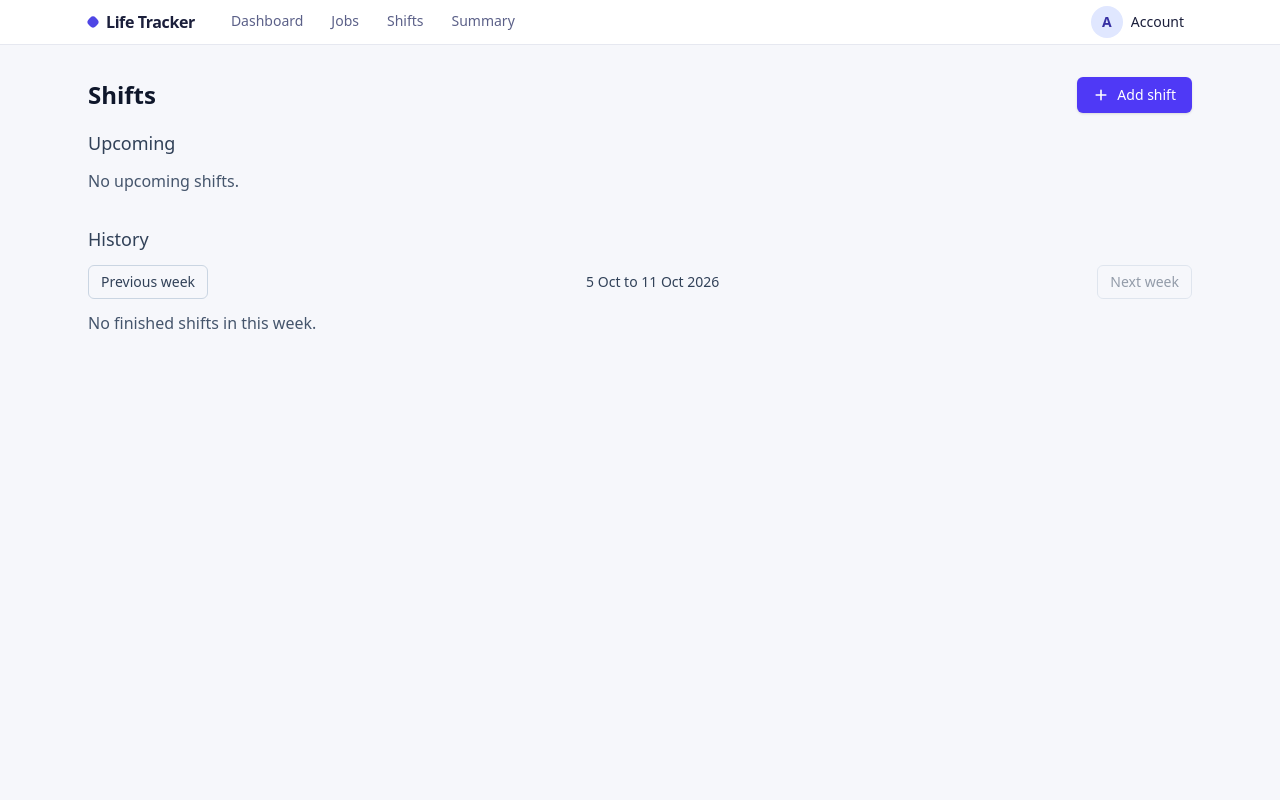
ShiftsPage › opens a dialog with the shift form from the Add shift button
Check: the text "No upcoming shifts." is shown, box top-left (88, 170), bottom-right (239, 192)
Click the button "Add shift". click: (1135, 95)
box: top-left (1077, 77), bottom-right (1192, 113)
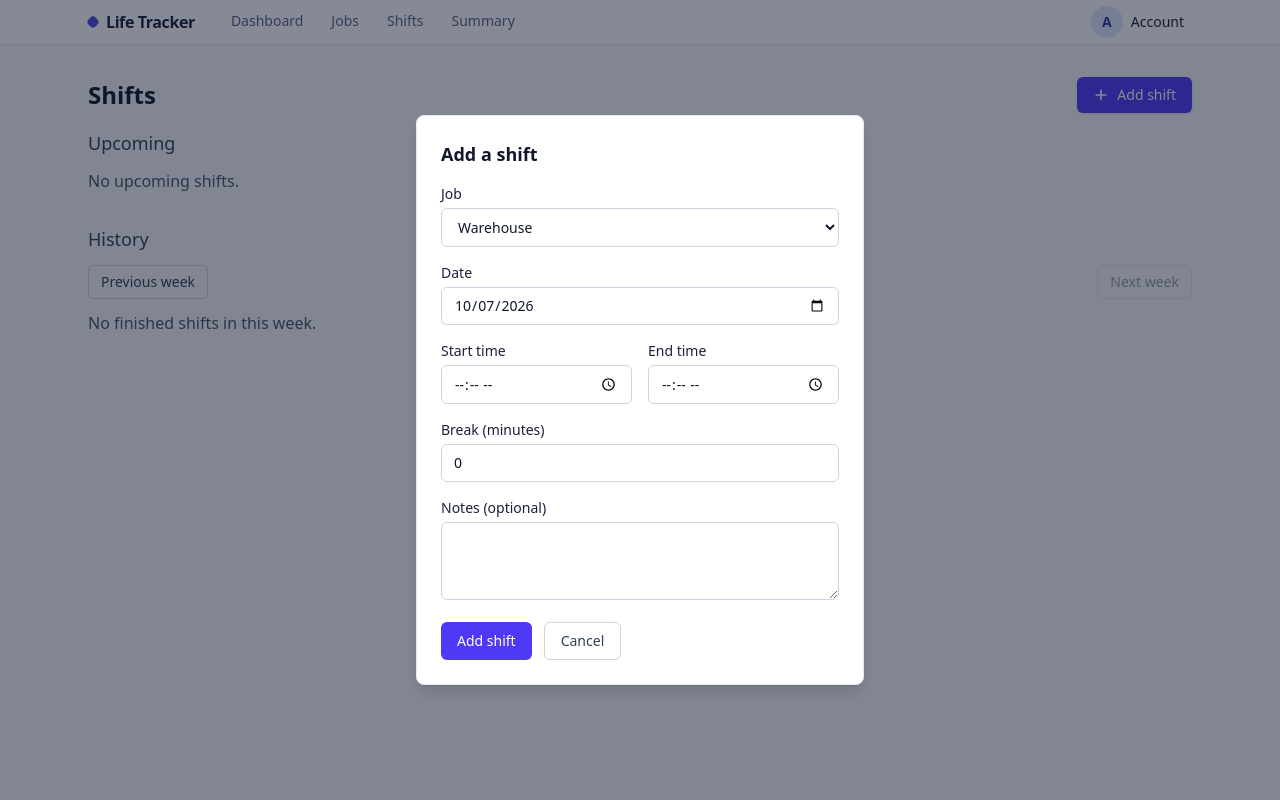
Check: the dropdown labelled "Job" is shown, box top-left (441, 208), bottom-right (839, 247)
